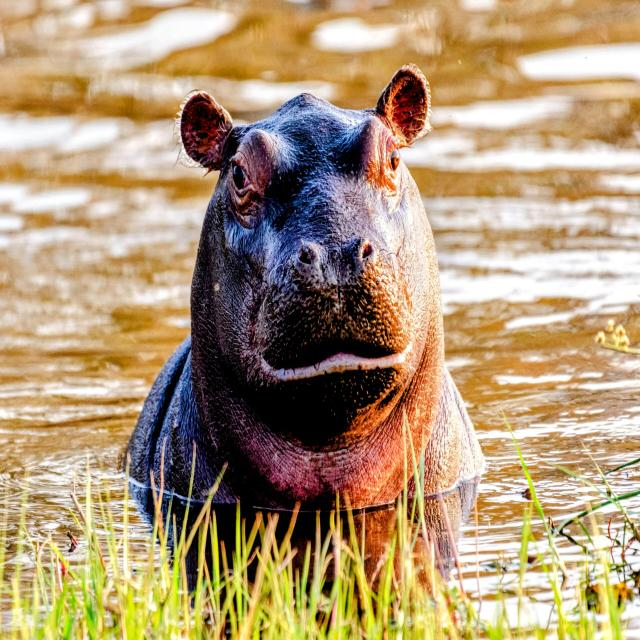Hippopotamus: (116, 64, 480, 501)
